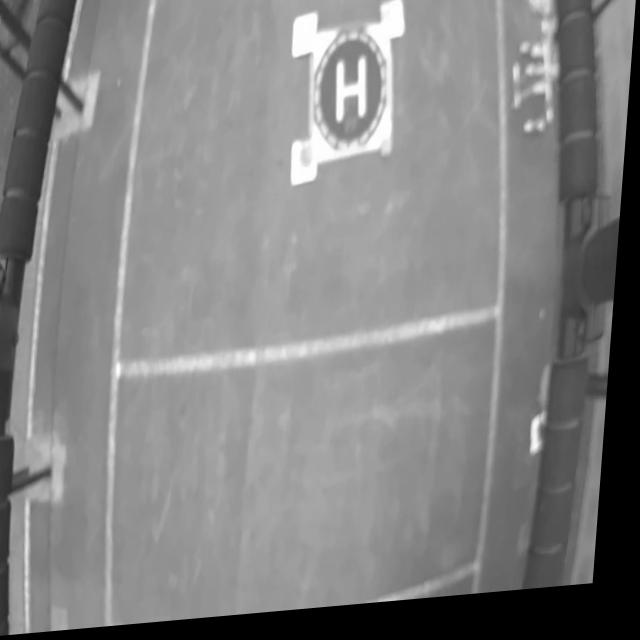Helipad: (337, 64, 368, 131)
